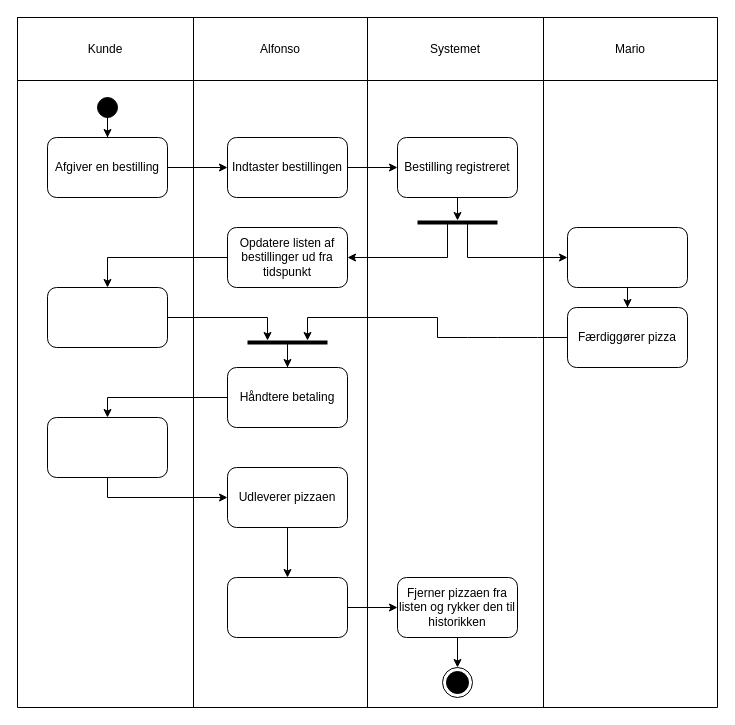
This 735x725 diagram has some shape labels left out. The centre of each missing label's shape, as x and y in pixels:
Ankommer for at afhente pizza: [107,317]
Betaler: [107,447]
Går i gang med at lave pizza: [627,257]
Registrerer udleveret pizza: [287,607]
